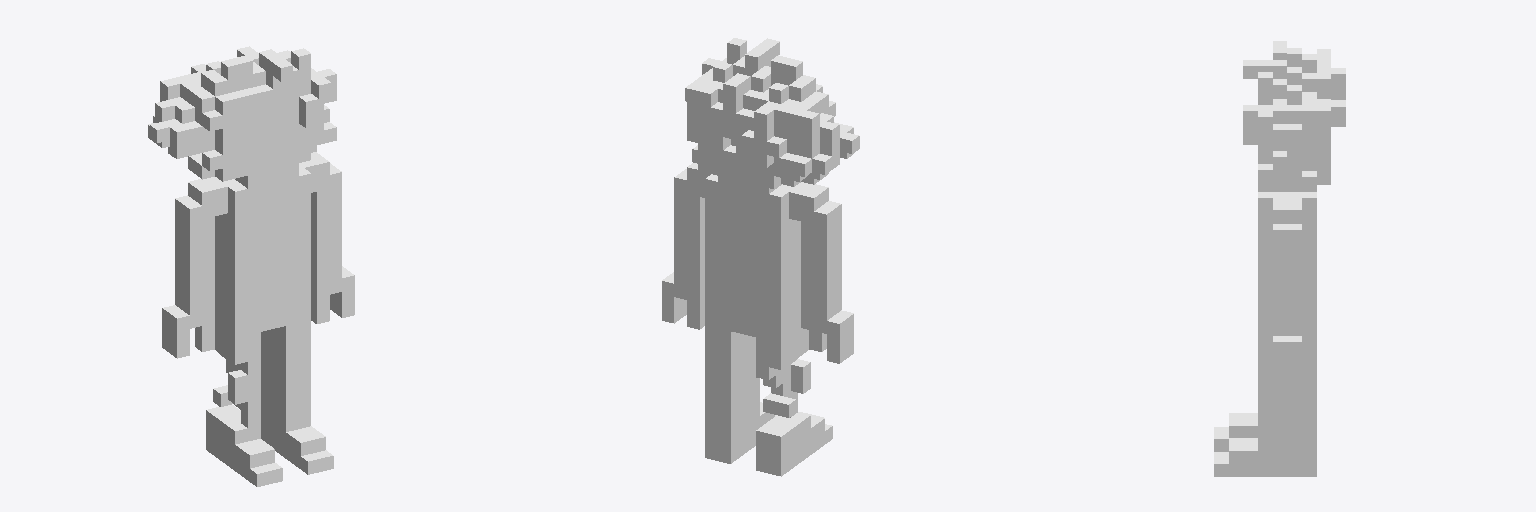
File: zombies3.obj
The picture shows the model from 3 angles: view 1: azimuth 30°, elevation 25°; view 2: azimuth 150°, elevation 25°; view 3: azimuth 270°, elevation 25°; orthographic projection.
Visible parts, largest first — view 1: object 1; view 2: object 1; view 3: object 1.
Part boxes in pixels (left/top/right/bottom): object 1: left=148, top=46, right=354, bottom=486; object 1: left=662, top=38, right=859, bottom=476; object 1: left=1214, top=41, right=1345, bottom=476.
Size of the model in its own units: 1.5 by 3 by 0.9.